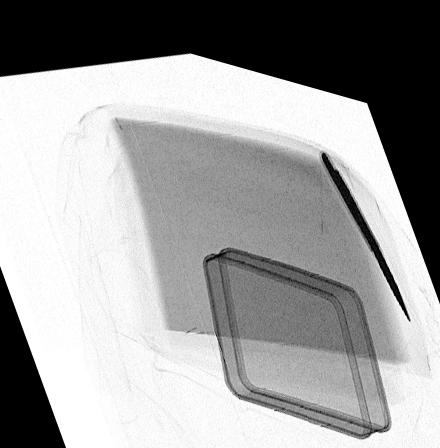Pliers: (321, 130, 408, 298)
